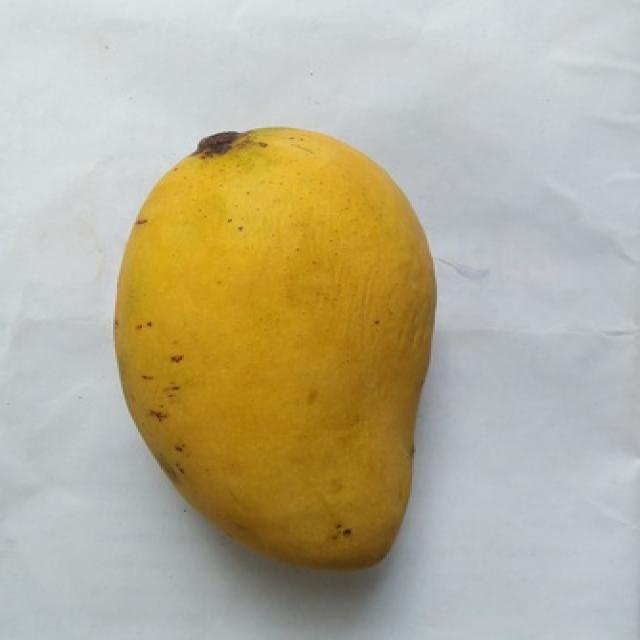Mango: (115, 128, 435, 566)
